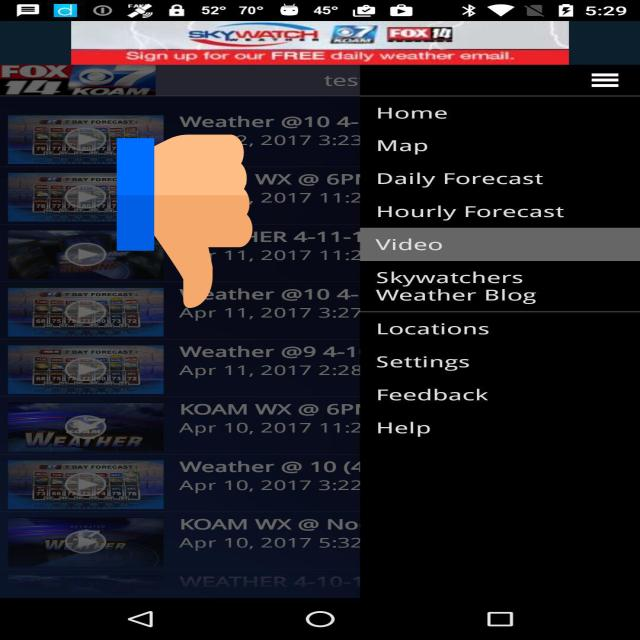obstruction: (117, 130, 252, 312)
